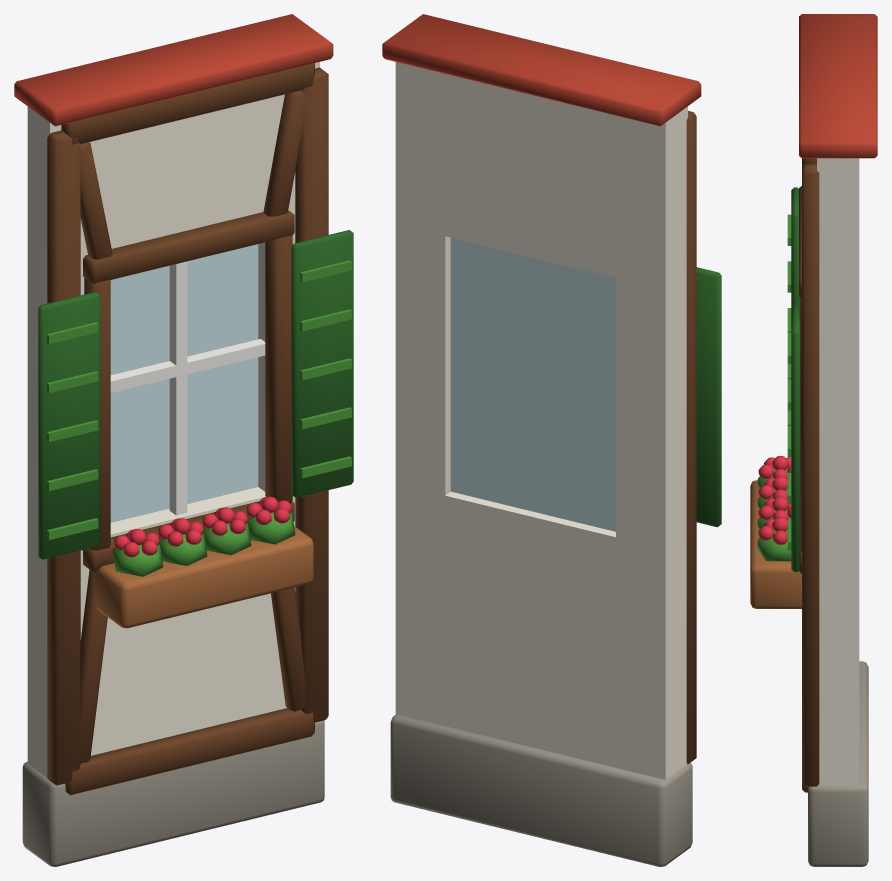
File: parede_enxaimel_janela.glb
3 views of the same model, side by side, from view 1: azimuth 30°, elevation 25°; view 2: azimuth 150°, elevation 25°; view 3: azimuth 270°, elevation 25° (orthographic). The views are drawn at different scales.
Parts seen in each view (by area): view 1: Parede_Enxaimel_Janela; view 2: Parede_Enxaimel_Janela; view 3: Parede_Enxaimel_Janela.
Boxes of the visible parts, x1,y1,x2,y2 form: Parede_Enxaimel_Janela: (14,14,353,866); Parede_Enxaimel_Janela: (382,14,721,866); Parede_Enxaimel_Janela: (750,14,877,866).
Bounding box in the file's own units: 1.14 × 2.65 × 0.42.
